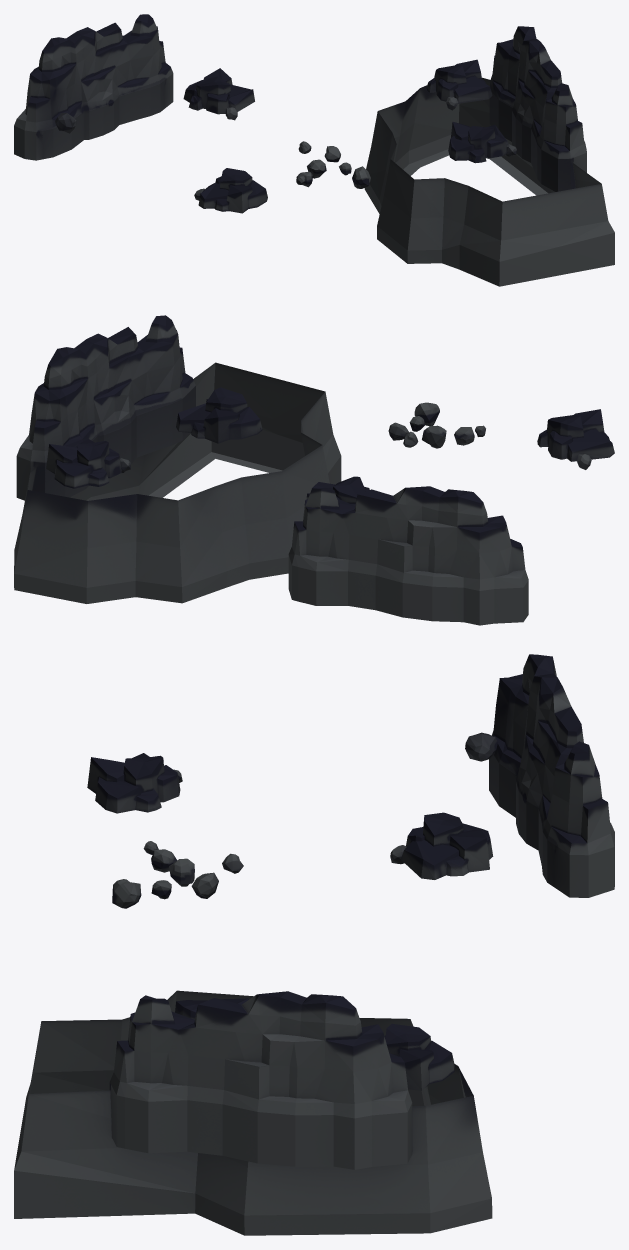
File: Wall_01.FBX
3 renders of one model, top to bottom at view 1: azimuth 30°, elevation 25°; view 2: azimuth 150°, elevation 25°; view 3: azimuth 270°, elevation 25°, orthographic. The views are drawn at different scales.
Parts seen in each view (by area): view 1: Wall_01; view 2: Wall_01; view 3: Wall_01.
Boxes of the visible parts, left/top/right/bottom form: Wall_01: left=14, top=14, right=614, bottom=286; Wall_01: left=14, top=315, right=614, bottom=625; Wall_01: left=14, top=654, right=614, bottom=1235.
Size of the model in its own units: 39.51 by 15.37 by 29.4.
